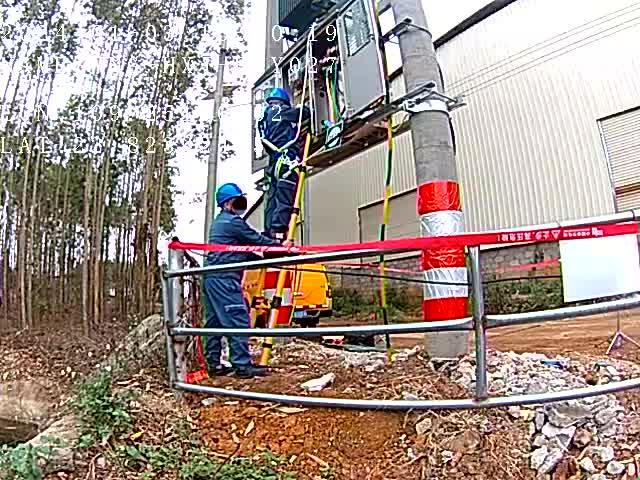halt: (219, 186, 249, 217), (269, 91, 295, 109)
inear: (223, 199, 236, 213)
